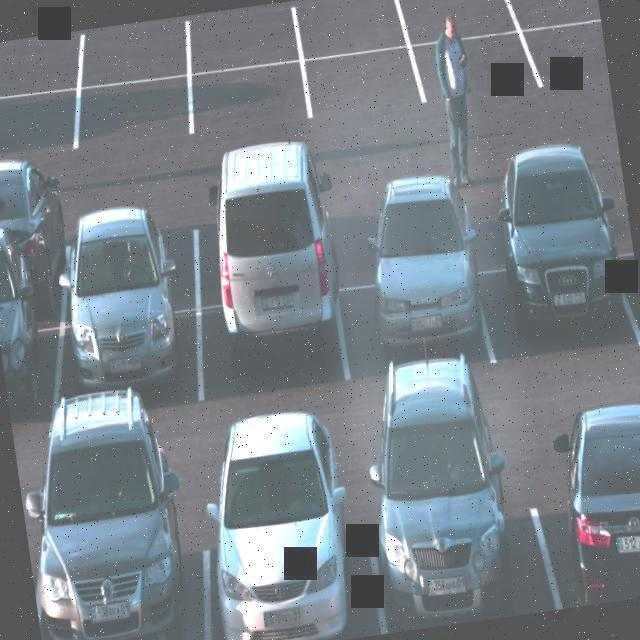space-empty: (189, 222, 332, 319), (322, 192, 455, 294), (69, 228, 203, 323), (463, 170, 587, 269), (423, 33, 532, 115), (309, 44, 418, 115), (78, 73, 193, 140), (190, 62, 306, 127), (82, 18, 183, 83), (532, 23, 611, 98), (196, 11, 298, 68), (300, 0, 406, 54), (401, 0, 510, 51), (0, 33, 73, 98), (0, 91, 71, 154), (506, 0, 602, 39), (596, 170, 632, 240)
space-occupied: (358, 460, 547, 635), (198, 490, 377, 640), (27, 516, 220, 640), (185, 288, 345, 407), (485, 240, 623, 367), (49, 311, 211, 419), (340, 266, 480, 376), (532, 470, 640, 611), (0, 249, 72, 334), (0, 332, 60, 426), (612, 239, 640, 332)
